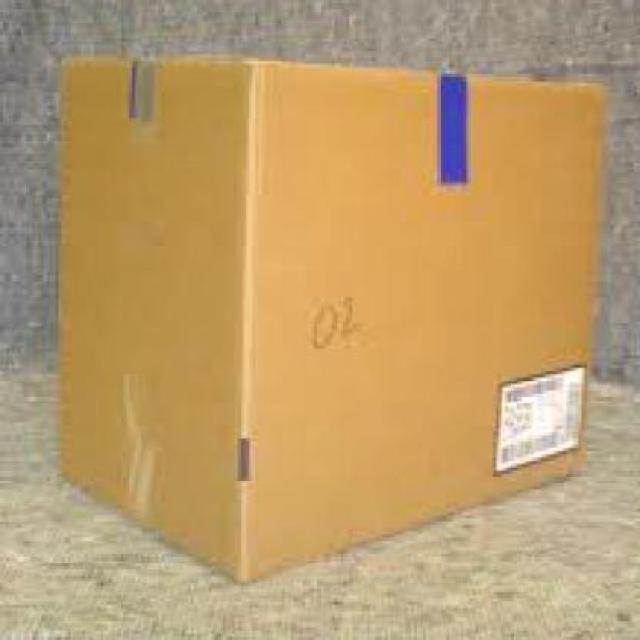-: (62, 35, 597, 582)
